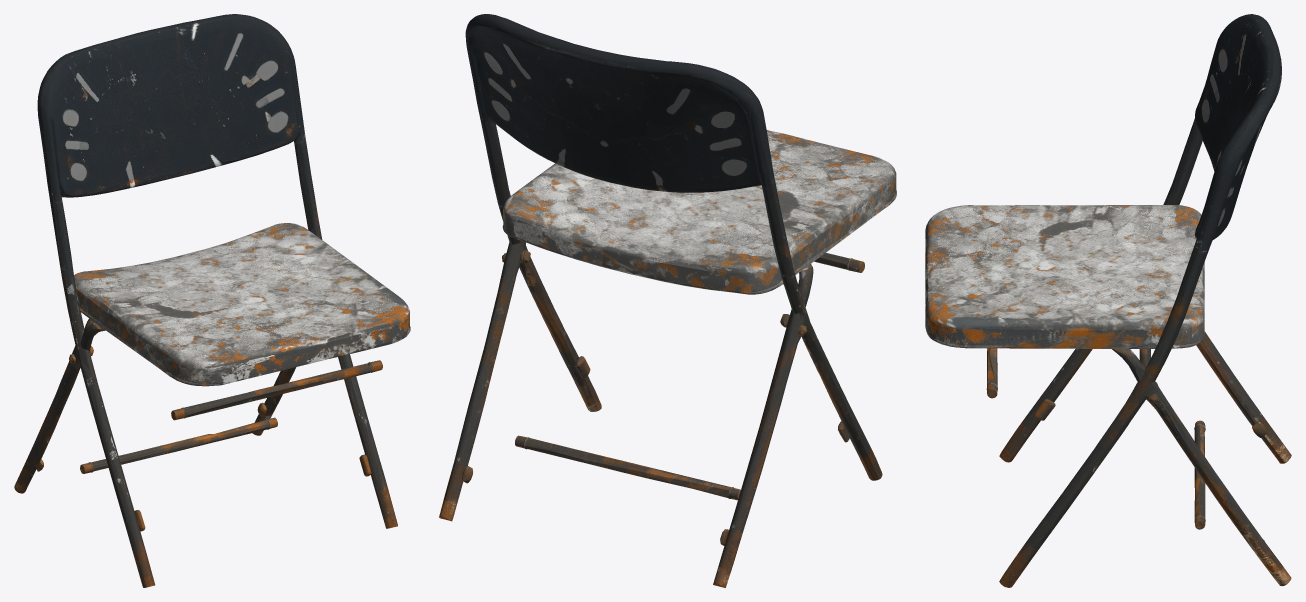
The model's file is sedia.glb.
The picture shows the model from 3 angles, left to right: view 1: azimuth 30°, elevation 25°; view 2: azimuth 150°, elevation 25°; view 3: azimuth 270°, elevation 25°; orthographic projection. The views are drawn at different scales.
Bounding box in the file's own units: 1.2 × 1.9 × 1.37.
1 material, 1 textured.
